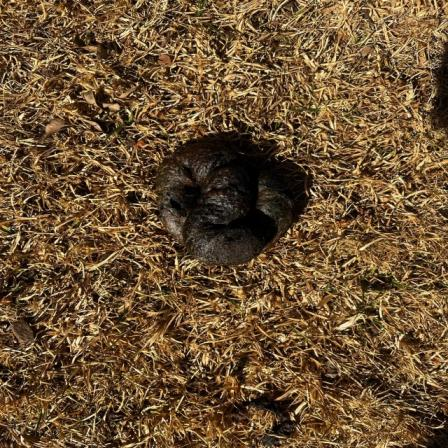dog-poop: (148, 121, 318, 271)
